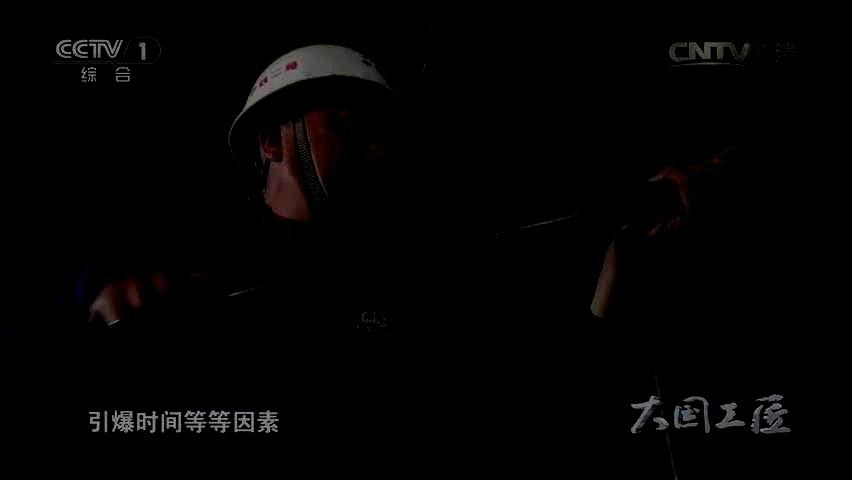helmet: (228, 44, 424, 223)
